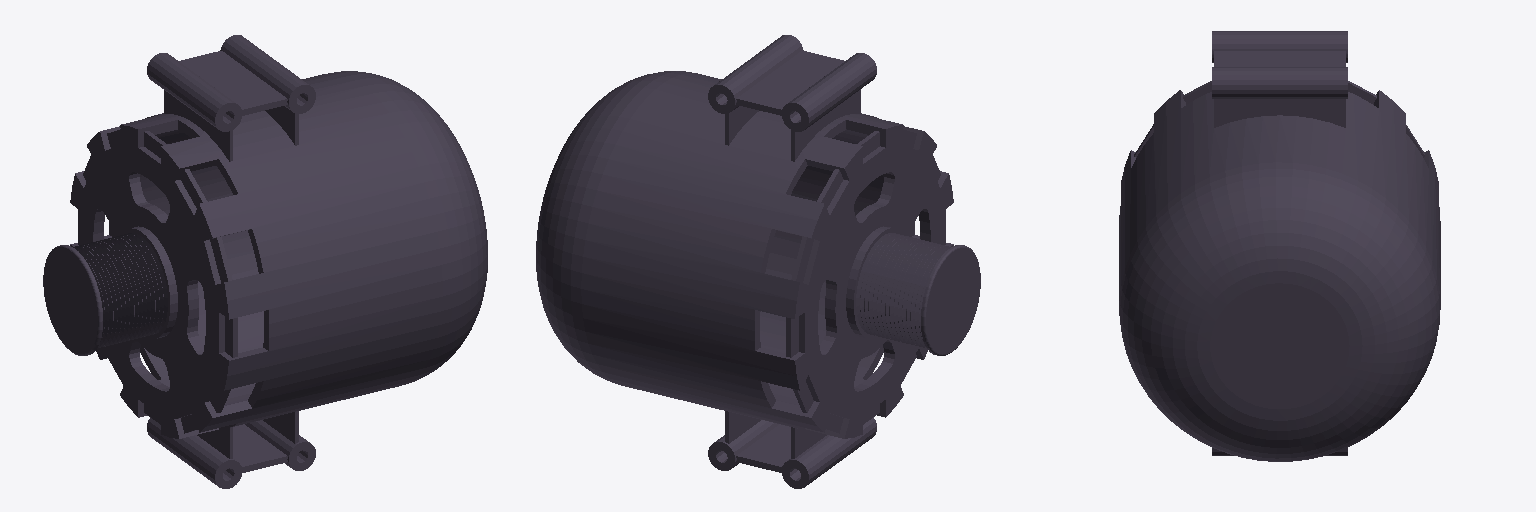
The model's file is Генератор.obj.
3 renders of one model, left to right at view 1: azimuth 30°, elevation 25°; view 2: azimuth 150°, elevation 25°; view 3: azimuth 270°, elevation 25°, orthographic.
Parts seen in each view (by area): view 1: Генератор; view 2: Генератор; view 3: Генератор.
Boxes of the visible parts, box(x1,y1,x2,y2) form: Генератор: box(43, 35, 487, 488); Генератор: box(536, 35, 980, 488); Генератор: box(1119, 31, 1440, 461).
Size of the model in its own units: 188 by 187 by 141.